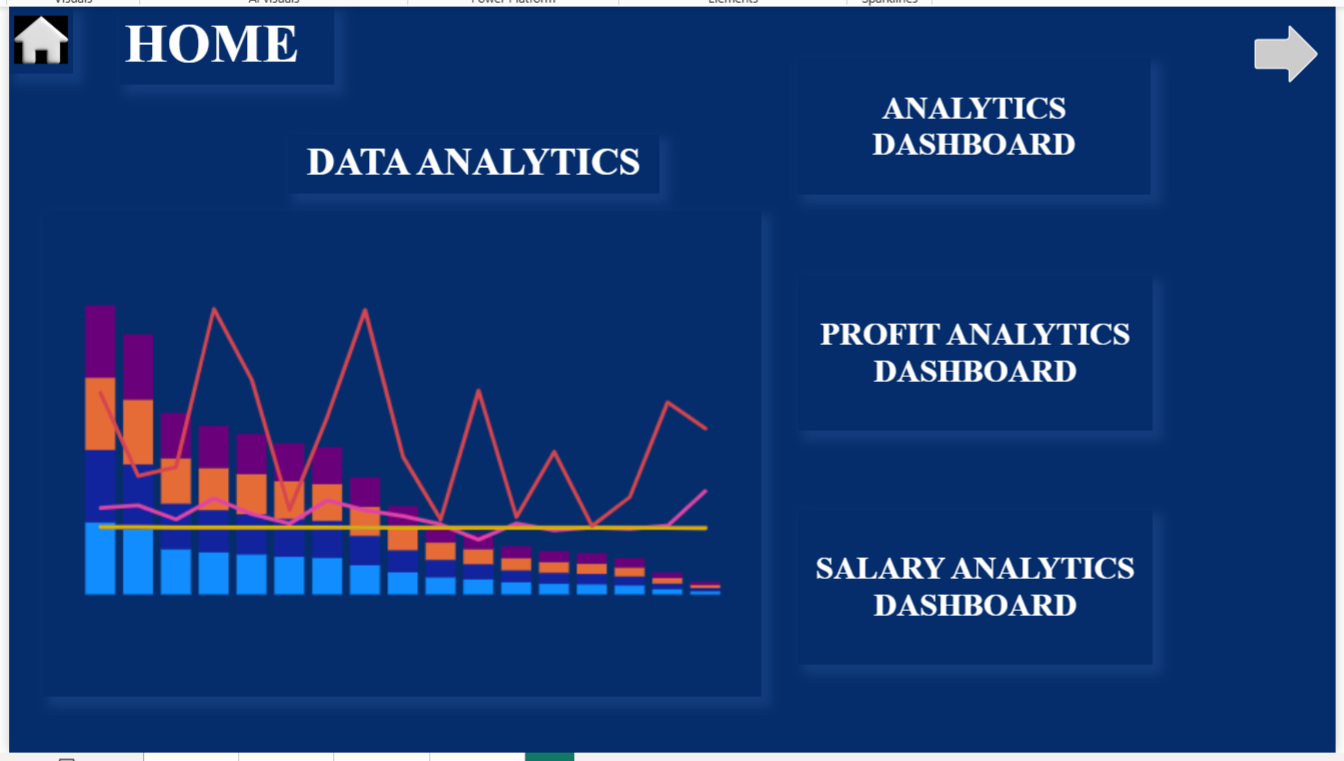

What the dashboard file says about the page in this screenshot:
{"tool":"powerbi","page":{"name":"HOME","canvas":[1280,720],"ordinal":0},"visuals":[{"type":"image","box":[0,0,61.7,64.5],"z":0},{"type":"textbox","box":[105.7,0,207.2,75.5],"z":1000},{"type":"shape","box":[760.2,49.4,341.7,131.7],"z":2000},{"type":"shape","box":[761.6,484.4,341.7,149.6],"z":3000},{"type":"shape","box":[761.6,259.3,341.7,149.6],"z":4000},{"type":"shape","box":[1202.1,16.5,61.7,57.6],"z":5000},{"type":"textbox","box":[269,123.5,358.1,57.6],"z":6000},{"type":"image","box":[32.9,196.2,693,469.3],"z":7000}]}

Visuals, with their boxes on the page's 1280x720 design canvas (x1, y1, x2, y2). These are canvas units, not pixel positions in the 1344x761 screenshot, which may show the page scaled, cropped or inside an application window:
image: 0,0,62,64
textbox: 106,0,313,76
shape: 760,49,1102,181
shape: 762,484,1103,634
shape: 762,259,1103,409
shape: 1202,16,1264,74
textbox: 269,124,627,181
image: 33,196,726,666
